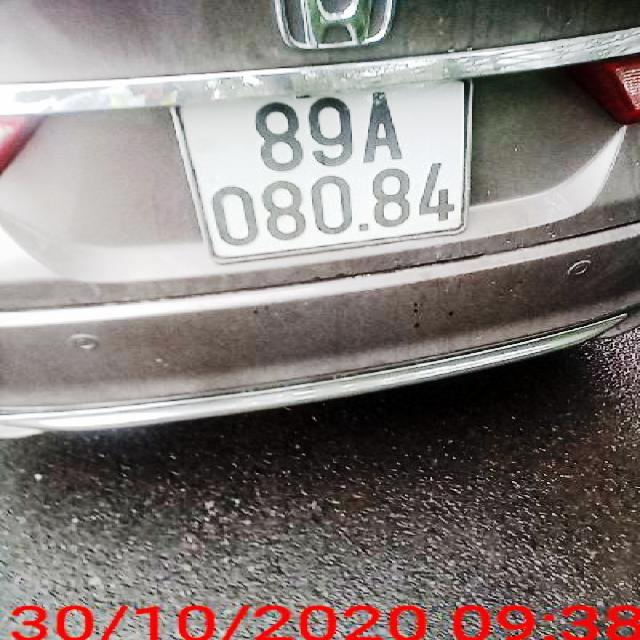license_plate: (175, 77, 468, 266)
